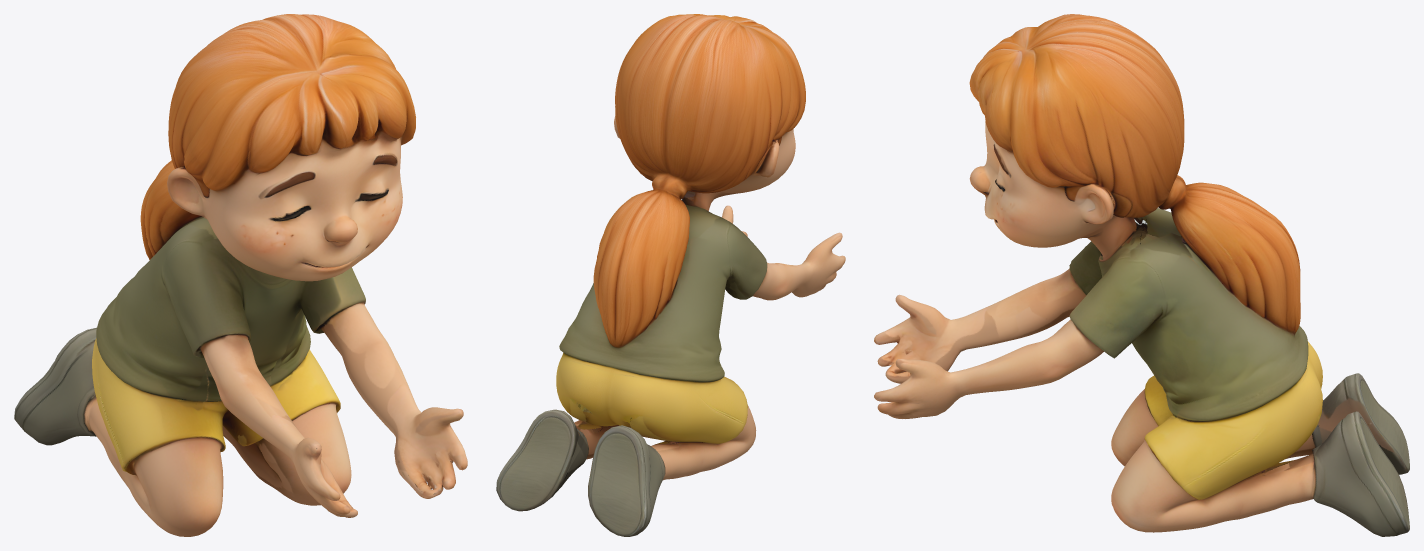
File: niña.glb
The picture shows the model from 3 angles, left to right: view 1: azimuth 30°, elevation 25°; view 2: azimuth 150°, elevation 25°; view 3: azimuth 270°, elevation 25°; orthographic projection. The views are drawn at different scales.
Visible parts, largest first — view 1: model; view 2: model; view 3: model.
Part boxes in pixels (x1,y1,x2,y2): model: (14,14,467,536); model: (496,14,845,536); model: (874,14,1409,536).
Bounding box in the file's own units: 0.7951 × 1.86 × 1.9.
1 material, 1 textured.
